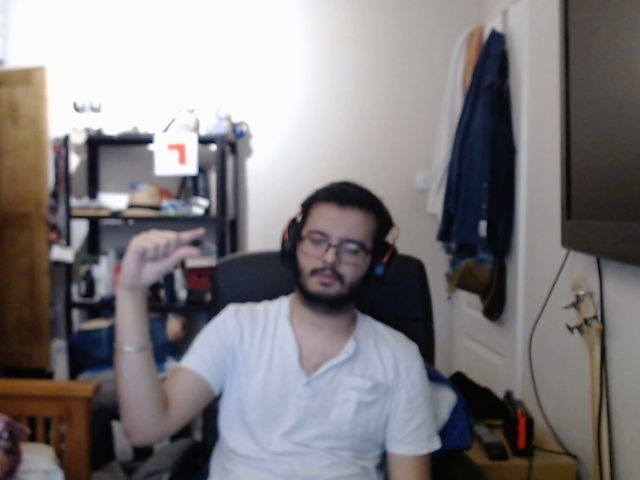Small: (95, 220, 221, 300)
